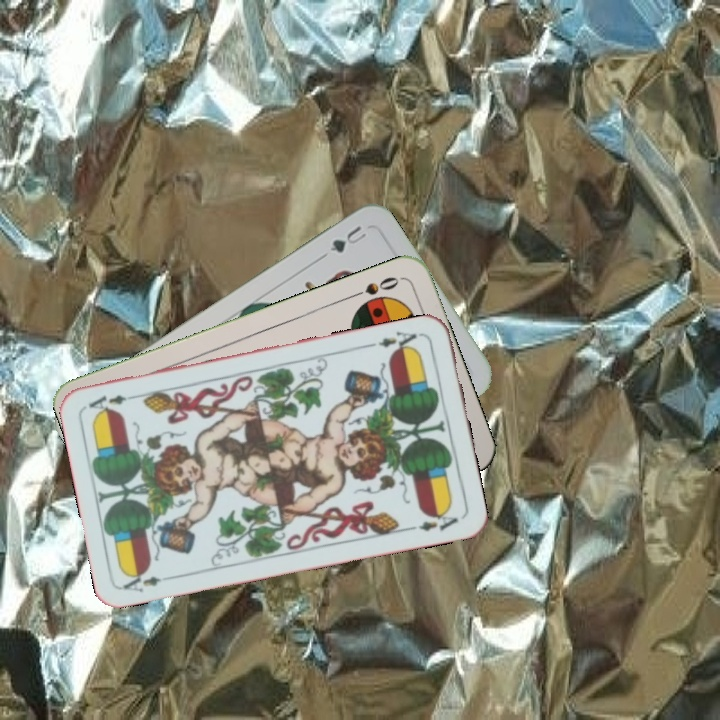EA: (119, 566, 178, 596), (367, 327, 425, 356)
GU: (325, 221, 369, 256)
SO: (348, 272, 402, 300)
